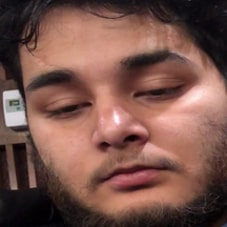drowsy: (24, 46, 203, 200)
